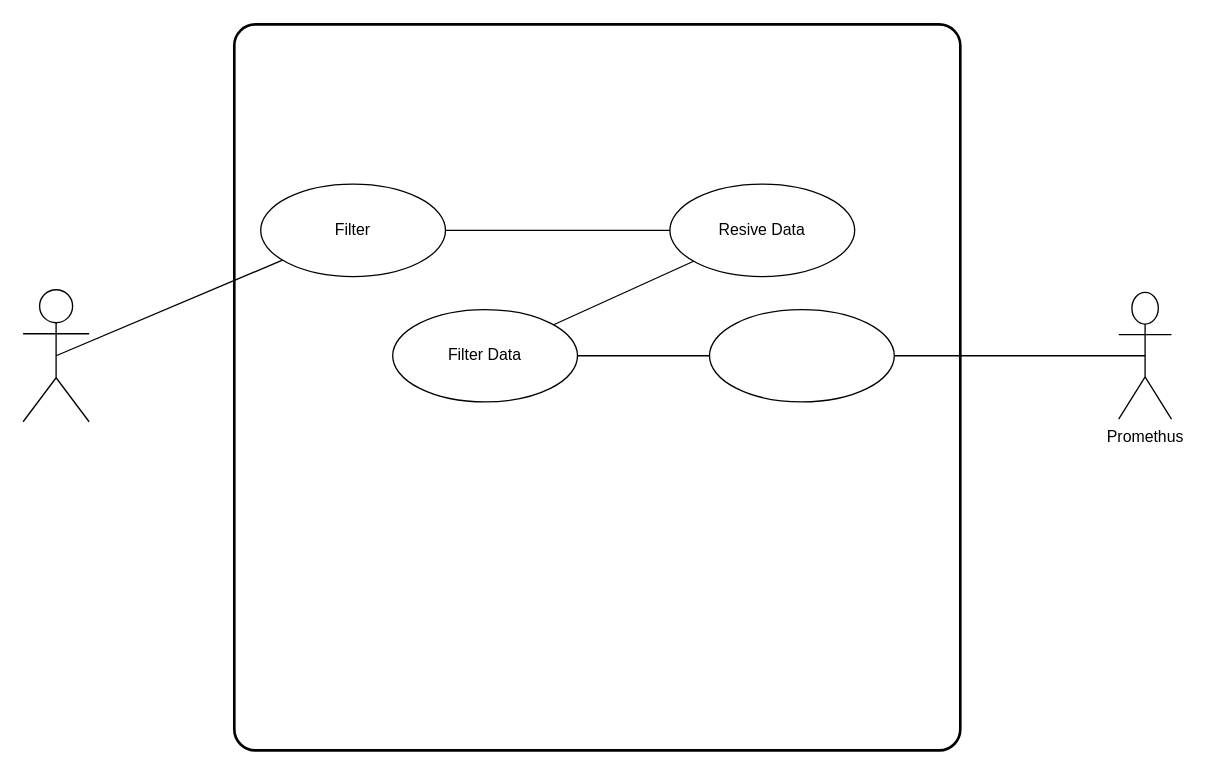
Some shapes in this 1206 by 774 pixel diagram are drawn without their labels. The box of each missing label's shape, as (x1, y1, x2, y2) in pixels:
Actor: (22, 288, 89, 422)
Send Filterd Data: (708, 308, 894, 402)
